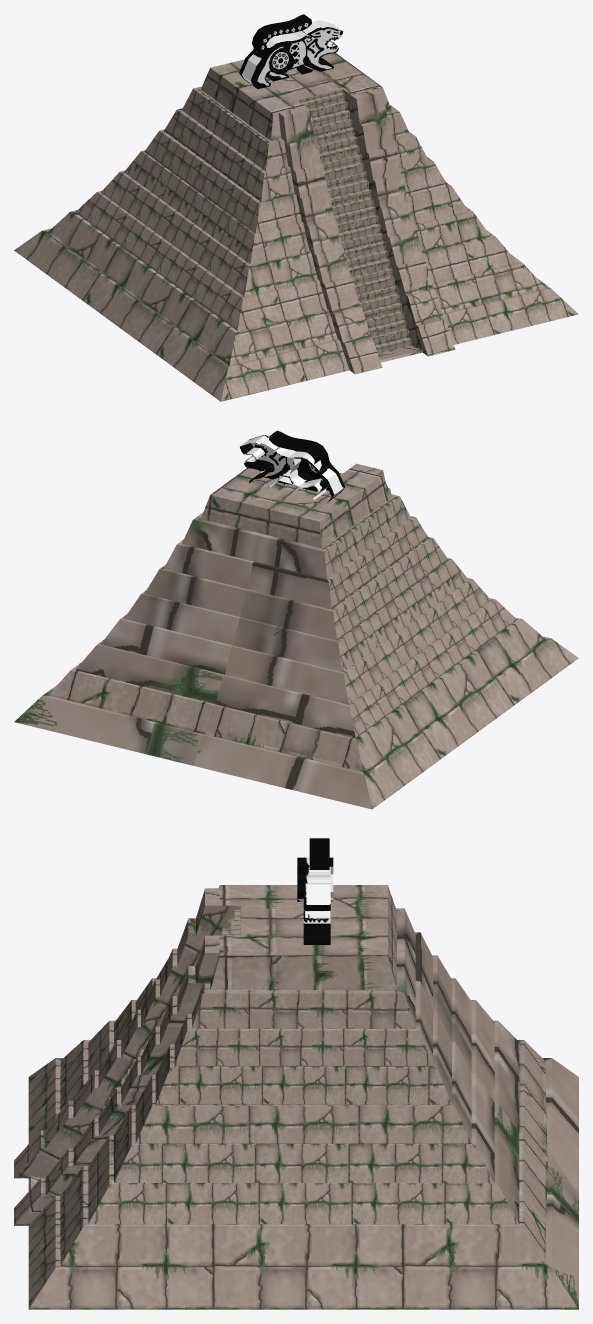
The model's file is Templo_Jaguar.glb.
The picture shows the model from 3 angles, top to bottom: view 1: azimuth 30°, elevation 25°; view 2: azimuth 150°, elevation 25°; view 3: azimuth 270°, elevation 25°; orthographic projection. The views are drawn at different scales.
Parts seen in each view (by area): view 1: Templo_Base_Jaguar, Templo_Estatua_Jaguar; view 2: Templo_Base_Jaguar, Templo_Estatua_Jaguar; view 3: Templo_Base_Jaguar, Templo_Estatua_Jaguar.
Part boxes in pixels (x1,y1,x2,y2): Templo_Base_Jaguar: (14,53,578,401); Templo_Estatua_Jaguar: (239,14,343,89); Templo_Base_Jaguar: (14,463,578,809); Templo_Estatua_Jaguar: (239,430,344,502); Templo_Base_Jaguar: (14,885,578,1309); Templo_Estatua_Jaguar: (297,838,333,944).
Size of the model in its own units: 80.08 by 55.32 by 82.2.
3 materials, 3 textured.
